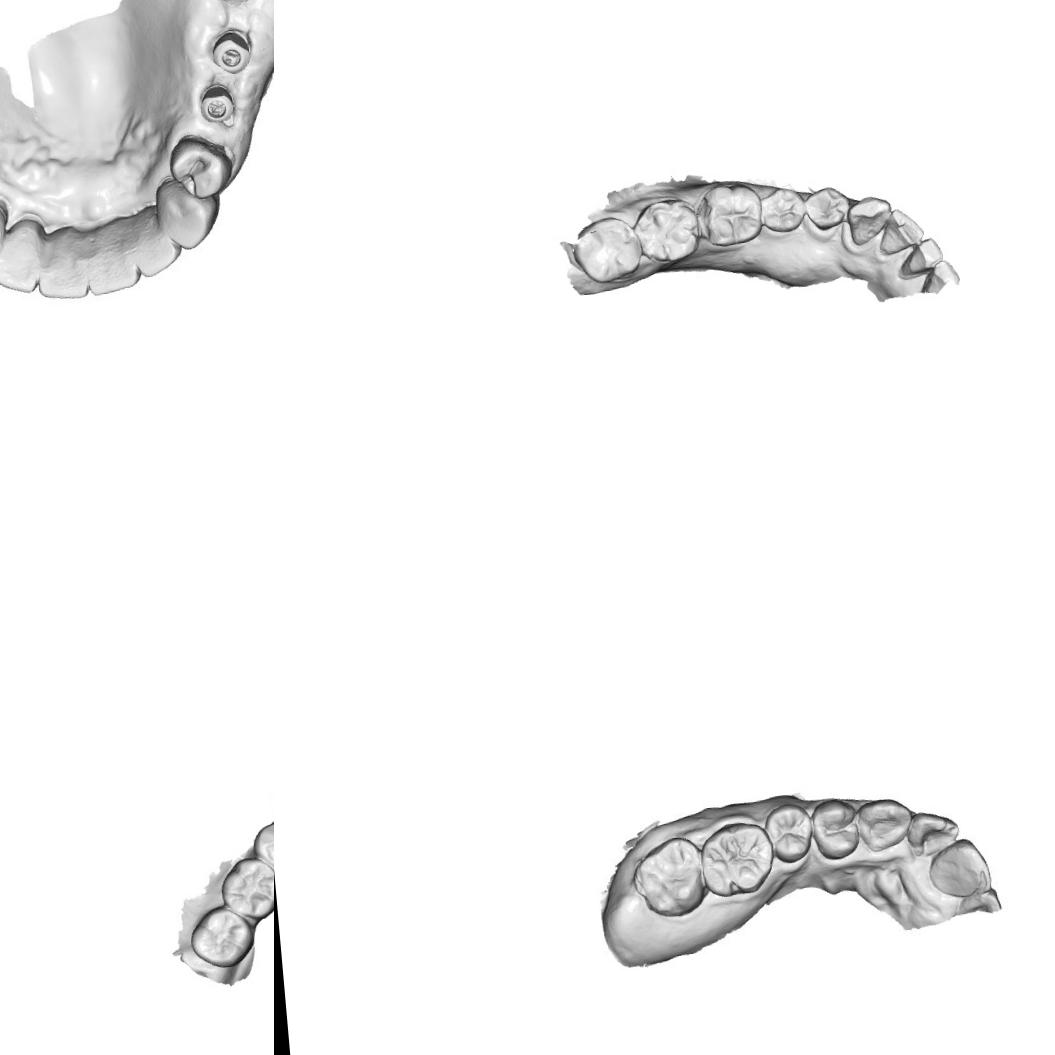canine: (154, 175, 222, 251), (854, 798, 907, 852), (844, 192, 893, 247)
implant: (206, 30, 260, 77), (195, 83, 237, 126)
incisor: (919, 838, 989, 900), (83, 234, 145, 297), (904, 802, 963, 863), (34, 244, 88, 304), (132, 216, 182, 278), (0, 234, 41, 297), (875, 206, 926, 256), (893, 235, 944, 280), (916, 257, 960, 295)
molar: (627, 830, 711, 922), (700, 817, 777, 897), (570, 212, 646, 286), (186, 900, 258, 972), (631, 195, 701, 266), (694, 180, 764, 249), (215, 851, 274, 923)
premolar: (164, 131, 234, 202), (761, 798, 815, 864), (811, 796, 860, 859), (804, 184, 852, 232), (760, 185, 806, 234), (248, 816, 274, 882)
